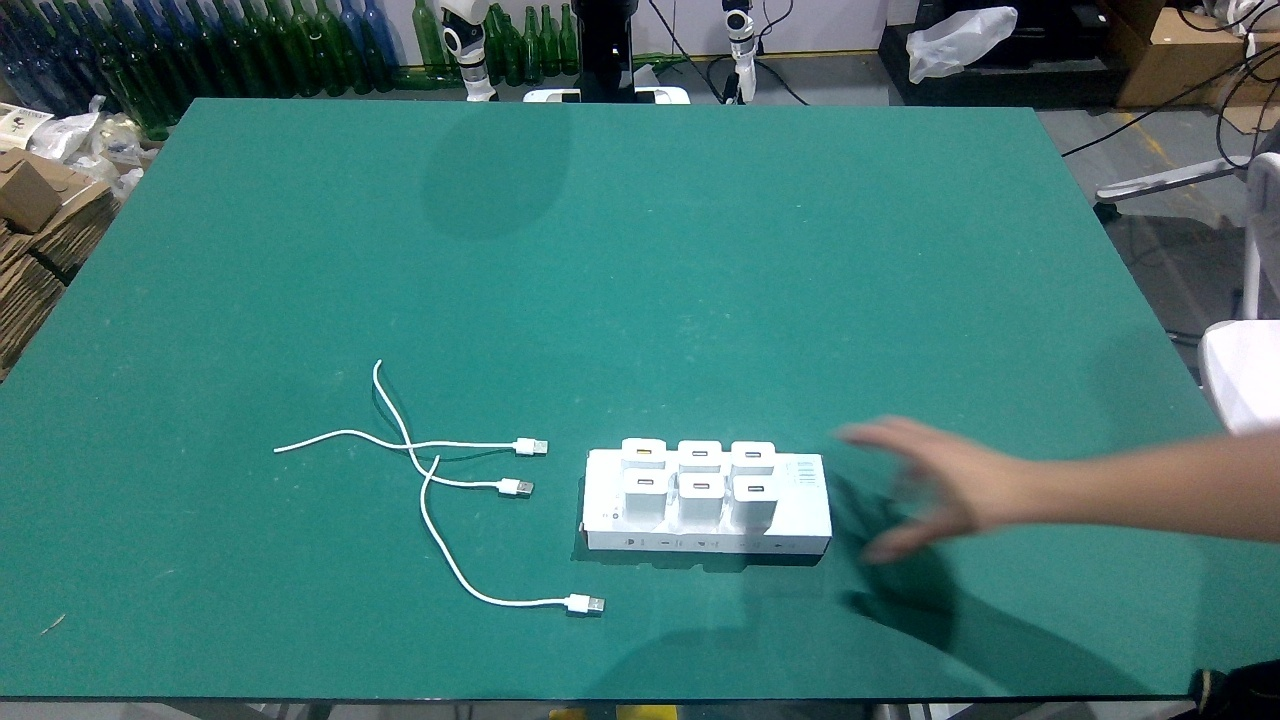usb_a_port: (690, 479, 712, 492), (634, 446, 656, 457), (742, 449, 763, 460), (634, 476, 657, 486), (746, 484, 767, 494), (691, 449, 709, 460)
